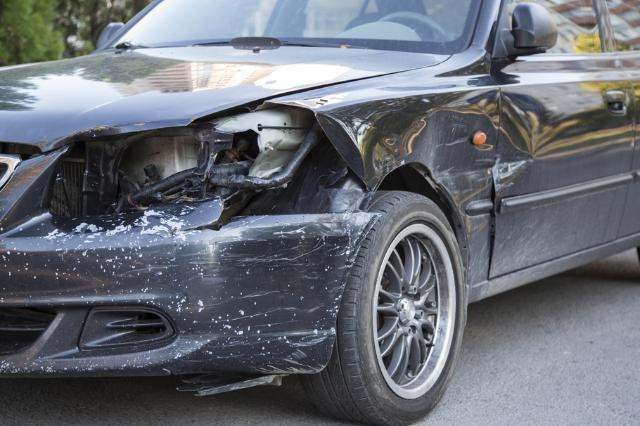Bumper: (4, 131, 375, 385)
Door: (491, 102, 547, 196)
Fender: (279, 59, 499, 264)
Light: (42, 100, 318, 229)
